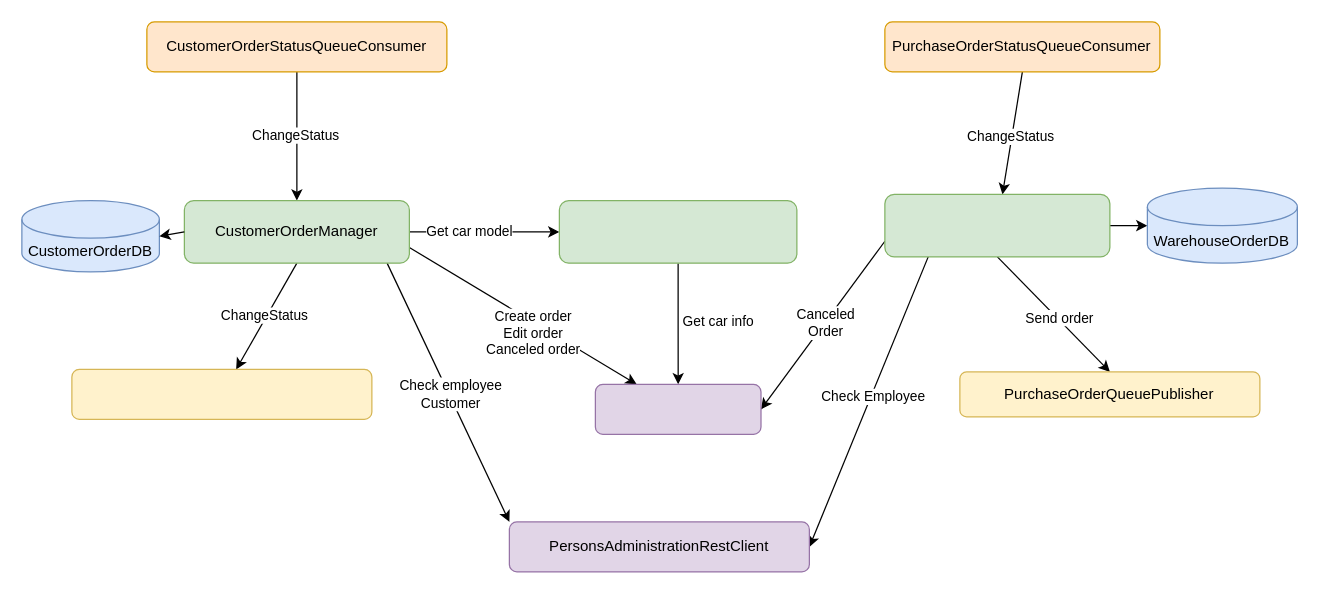
Some shapes in this 1320 by 594 pixel diagram are drawn without their labels. Here are the shapes that lost their labels. From the top down, the box of each, then its label:
(558, 199, 797, 263): WarehouseManager
(884, 193, 1110, 257): WarehouseOrderManager
(71, 368, 372, 419): CustomerOrderStatusQueuePublisher
(594, 383, 761, 434): WarehouseRestClient
